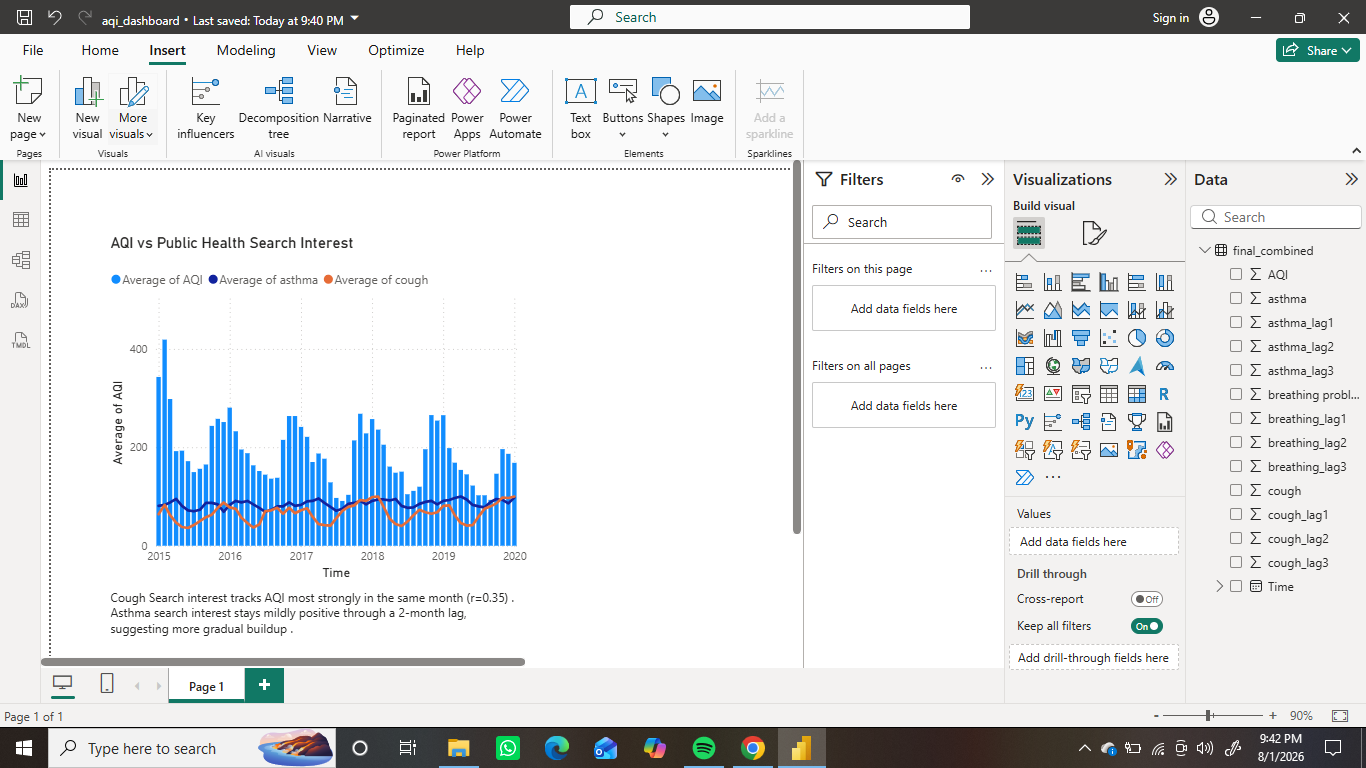

This screenshot's page, from the dashboard's own definition file:
{"tool":"powerbi","page":{"name":"Page 1","canvas":[1280,720],"ordinal":0},"visuals":[{"type":"lineClusteredColumnComboChart","title":"AQI vs Public Health Search Interest","fields":{"Y":["Avg(final_combined.AQI)"],"Y2":["Avg(final_combined.asthma)","Avg(final_combined.cough)"],"Category":["final_combined.Time"]},"box":[60.8,60.8,473.2,389.7],"z":0},{"type":"textbox","box":[61,461,473,259],"z":1}]}

Visuals, with their boxes on the page's 1280x720 design canvas (x1, y1, x2, y2). These are canvas units, not pixel positions in the 1366x768 screenshot, which may show the page scaled, cropped or inside an application window:
"AQI vs Public Health Search Interest" lineClusteredColumnComboChart: x1=61 y1=61 x2=534 y2=450
textbox: x1=61 y1=461 x2=534 y2=720
